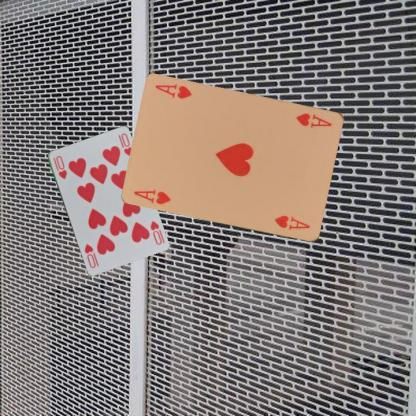10h: (50, 153, 68, 180), (147, 218, 163, 246)
Ah: (131, 186, 172, 206), (294, 110, 334, 129)
